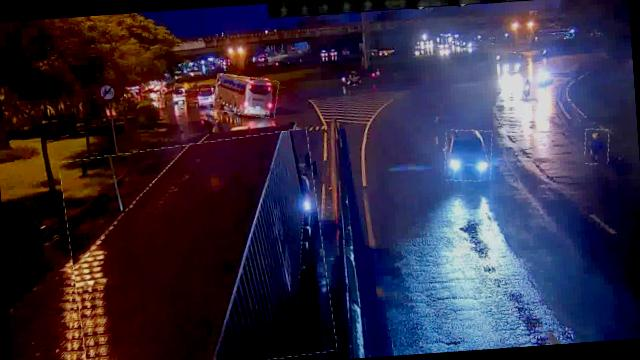Bike: (584, 127, 610, 164)
Bus: (212, 72, 280, 118)
Car: (442, 128, 493, 183)
Truck: (60, 131, 333, 360)
